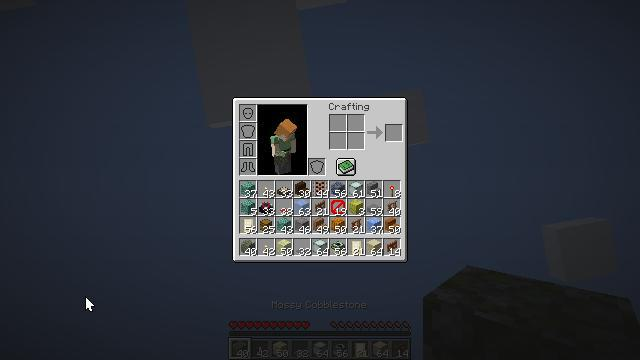cursor: (85, 296, 95, 312)
